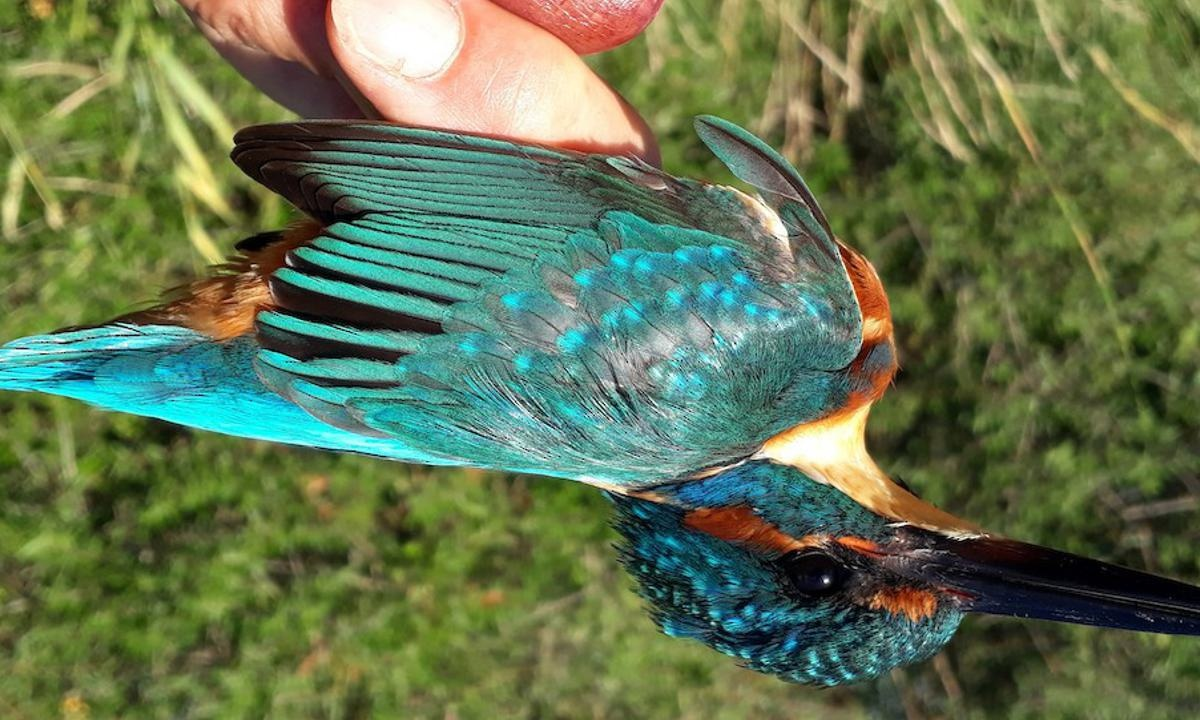kingfisher: (23, 102, 1200, 706)
